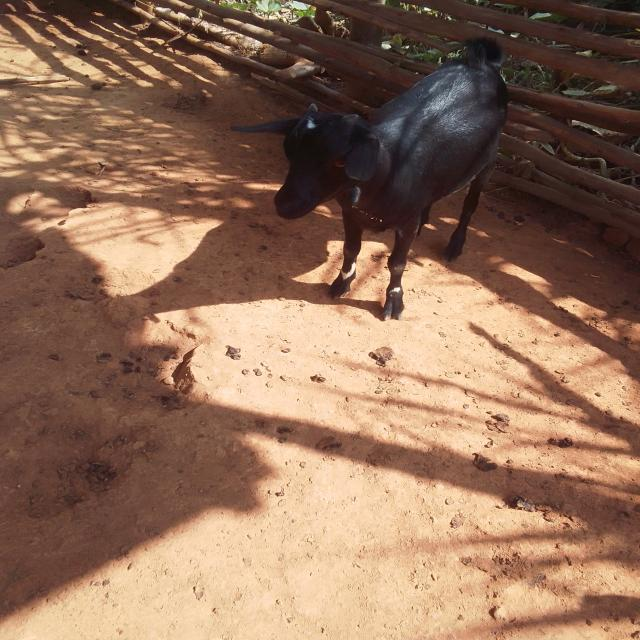goat: (202, 26, 559, 351)
